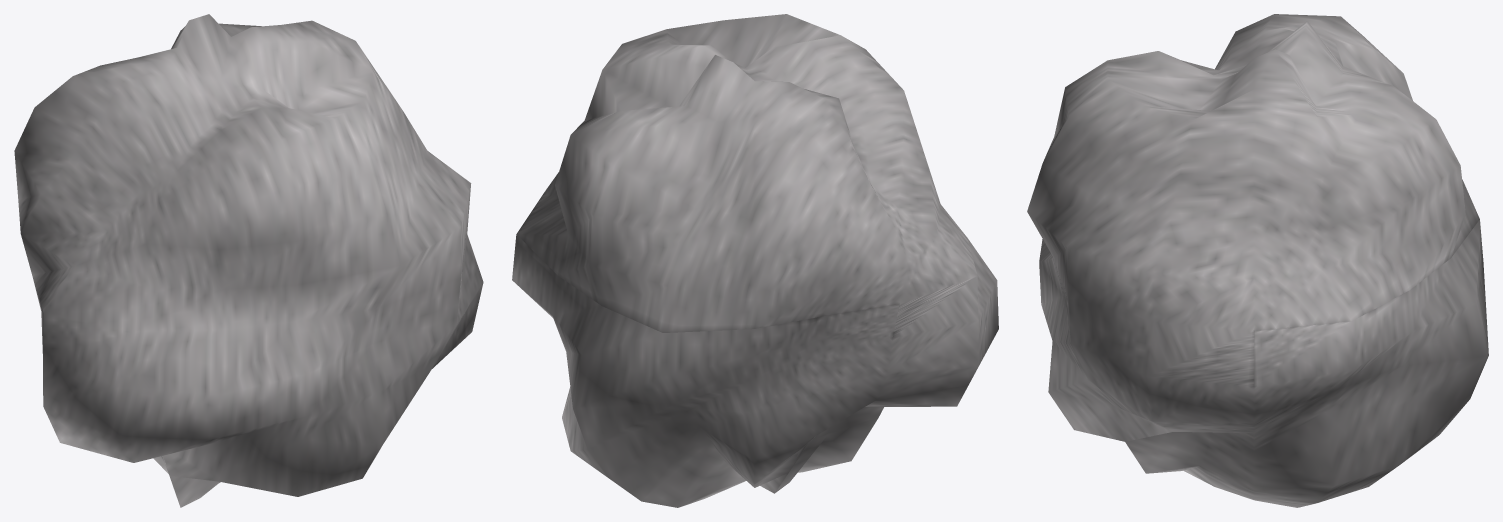
File: asteroid6.fbx
3 views of the same model, side by side, from view 1: azimuth 30°, elevation 25°; view 2: azimuth 150°, elevation 25°; view 3: azimuth 270°, elevation 25° (orthographic).
Visible parts, largest first — view 1: meteor6; view 2: meteor6; view 3: meteor6.
Boxes of the visible parts, box(x1,y1,x2,y2) form: meteor6: box(14, 14, 483, 507); meteor6: box(512, 14, 998, 507); meteor6: box(1027, 14, 1488, 507).
Bounding box in the file's own units: 5.06 × 5.15 × 4.73.
Materials: 1 (1 with a texture image).
